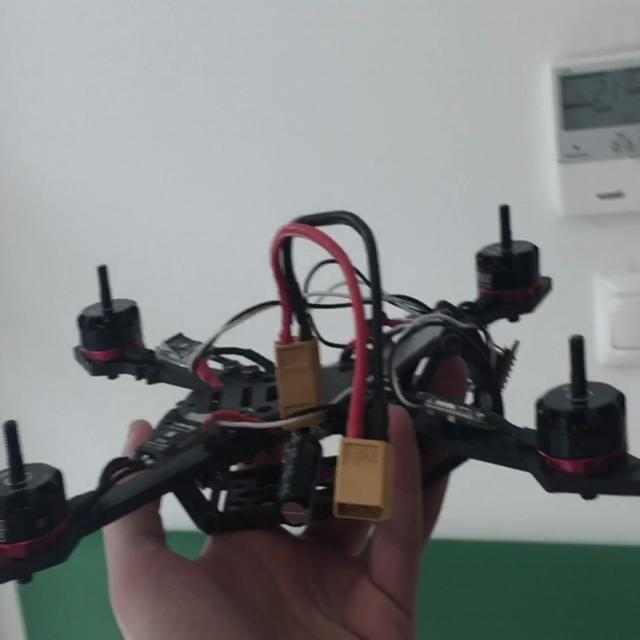drone: (0, 214, 640, 596)
